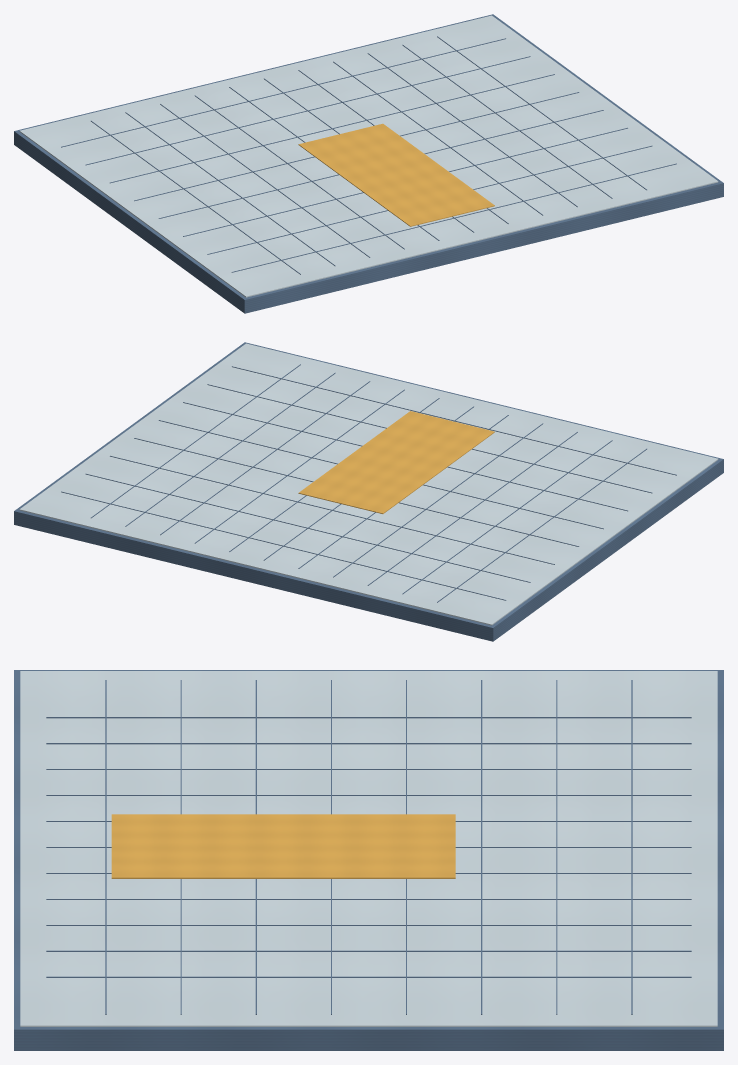
The model's file is atlas100-s052-a07.glb.
3 renders of one model, top to bottom at view 1: azimuth 30°, elevation 25°; view 2: azimuth 150°, elevation 25°; view 3: azimuth 270°, elevation 25°, orthographic. The views are drawn at different scales.
Parts seen in each view (by area): view 1: atlas100-s052-a07:part-001, atlas100-s052-a07:part-000, atlas100-s052-a07:part-021, atlas100-s052-a07:part-020, atlas100-s052-a07:part-014, atlas100-s052-a07:part-013, atlas100-s052-a07:part-015, atlas100-s052-a07:part-016, atlas100-s052-a07:part-018, atlas100-s052-a07:part-019, atlas100-s052-a07:part-017; view 2: atlas100-s052-a07:part-001, atlas100-s052-a07:part-000, atlas100-s052-a07:part-021, atlas100-s052-a07:part-013, atlas100-s052-a07:part-015, atlas100-s052-a07:part-014, atlas100-s052-a07:part-020, atlas100-s052-a07:part-017, atlas100-s052-a07:part-019, atlas100-s052-a07:part-016, atlas100-s052-a07:part-018; view 3: atlas100-s052-a07:part-001, atlas100-s052-a07:part-000, atlas100-s052-a07:part-021, atlas100-s052-a07:part-011, atlas100-s052-a07:part-012, atlas100-s052-a07:part-002, atlas100-s052-a07:part-003, atlas100-s052-a07:part-013, atlas100-s052-a07:part-014, atlas100-s052-a07:part-015, atlas100-s052-a07:part-020, atlas100-s052-a07:part-010 (+3 smaller).
Boxes of the visible parts, x1,y1,x2,y2 form: atlas100-s052-a07:part-001: (19,15,718,297); atlas100-s052-a07:part-000: (14,14,723,313); atlas100-s052-a07:part-021: (298,123,494,226); atlas100-s052-a07:part-020: (231,163,676,272); atlas100-s052-a07:part-014: (85,56,530,165); atlas100-s052-a07:part-013: (61,38,505,147); atlas100-s052-a07:part-015: (110,74,554,183); atlas100-s052-a07:part-016: (134,92,579,201); atlas100-s052-a07:part-018: (183,127,627,236); atlas100-s052-a07:part-019: (207,145,652,254); atlas100-s052-a07:part-017: (158,110,603,218); atlas100-s052-a07:part-001: (19,343,718,625); atlas100-s052-a07:part-000: (14,342,723,641); atlas100-s052-a07:part-021: (298,411,494,513); atlas100-s052-a07:part-013: (61,491,506,600); atlas100-s052-a07:part-015: (110,455,554,564); atlas100-s052-a07:part-014: (85,473,530,582); atlas100-s052-a07:part-020: (232,366,676,475); atlas100-s052-a07:part-017: (158,420,603,529); atlas100-s052-a07:part-019: (207,384,652,493); atlas100-s052-a07:part-016: (134,438,579,546); atlas100-s052-a07:part-018: (183,402,627,511); atlas100-s052-a07:part-001: (20,671,717,1026); atlas100-s052-a07:part-000: (14,670,723,1050); atlas100-s052-a07:part-021: (111,814,455,878); atlas100-s052-a07:part-011: (46,950,691,951); atlas100-s052-a07:part-012: (46,976,691,977); atlas100-s052-a07:part-002: (46,717,691,718); atlas100-s052-a07:part-003: (46,743,691,744); atlas100-s052-a07:part-013: (631,680,632,1014); atlas100-s052-a07:part-014: (556,680,557,1014); atlas100-s052-a07:part-015: (481,680,482,1014); atlas100-s052-a07:part-020: (105,680,106,1014); atlas100-s052-a07:part-010: (46,925,691,925).
Size of the model in its own units: 12.46 by 0.404 by 10.4.
3 materials, 3 textured.
